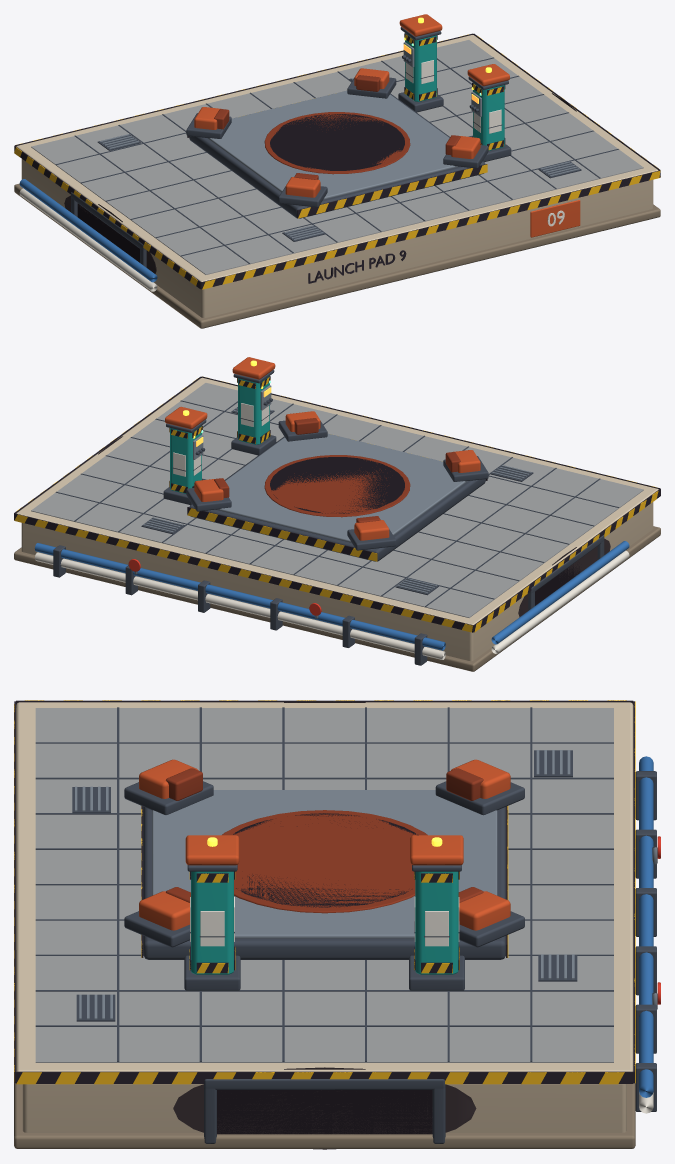
The model's file is dune_launch_mount.glb.
3 renders of one model, top to bottom at view 1: azimuth 30°, elevation 25°; view 2: azimuth 150°, elevation 25°; view 3: azimuth 270°, elevation 25°, orthographic. The views are drawn at different scales.
Parts seen in each view (by area): view 1: LaunchMount; view 2: LaunchMount; view 3: LaunchMount.
Part boxes in pixels (x1,y1,x2,y2): LaunchMount: (14, 14, 660, 328); LaunchMount: (14, 357, 660, 671); LaunchMount: (14, 700, 660, 1149).
Bounding box in the file's own units: 20.84 × 5.67 × 14.99.
